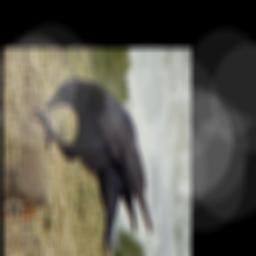Crow: (27, 74, 153, 256)
